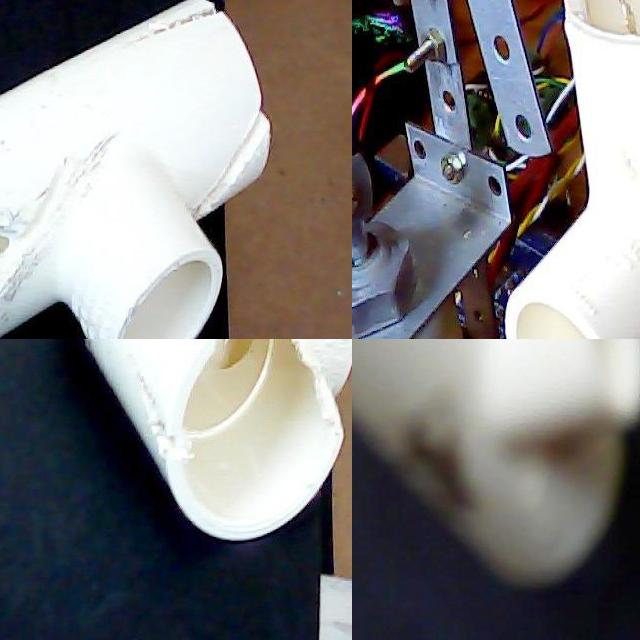Defective: (377, 408, 523, 524), (193, 82, 267, 237), (111, 366, 198, 471), (0, 172, 54, 339), (111, 0, 223, 77), (284, 339, 337, 418), (592, 0, 640, 48), (619, 0, 635, 33)
T Joint: (0, 0, 272, 339), (83, 339, 352, 544)
